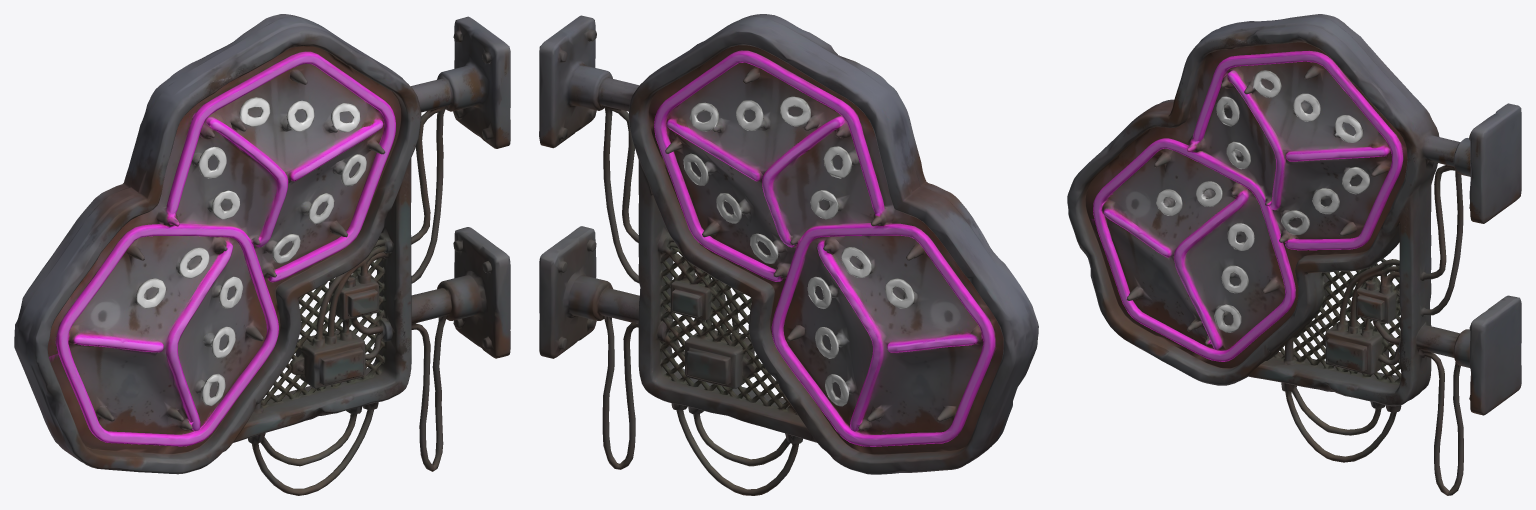
Rendered from neon_sign_dice.glb.
3 views of the same model, side by side, from view 1: azimuth 30°, elevation 25°; view 2: azimuth 150°, elevation 25°; view 3: azimuth 330°, elevation 25° (orthographic). The views are drawn at different scales.
Parts seen in each view (by area): view 1: tripo_node_de341792-b8ac-46c2-86f6-30de7402c538; view 2: tripo_node_de341792-b8ac-46c2-86f6-30de7402c538; view 3: tripo_node_de341792-b8ac-46c2-86f6-30de7402c538.
Part boxes in pixels (x1=…): tripo_node_de341792-b8ac-46c2-86f6-30de7402c538: x1=14, y1=14, x2=510, y2=495; tripo_node_de341792-b8ac-46c2-86f6-30de7402c538: x1=539, y1=14, x2=1038, y2=495; tripo_node_de341792-b8ac-46c2-86f6-30de7402c538: x1=1067, y1=14, x2=1521, y2=495.
Size of the model in its own units: 0.9801 by 0.9666 by 0.159.
Materials: 1 (1 with a texture image).
